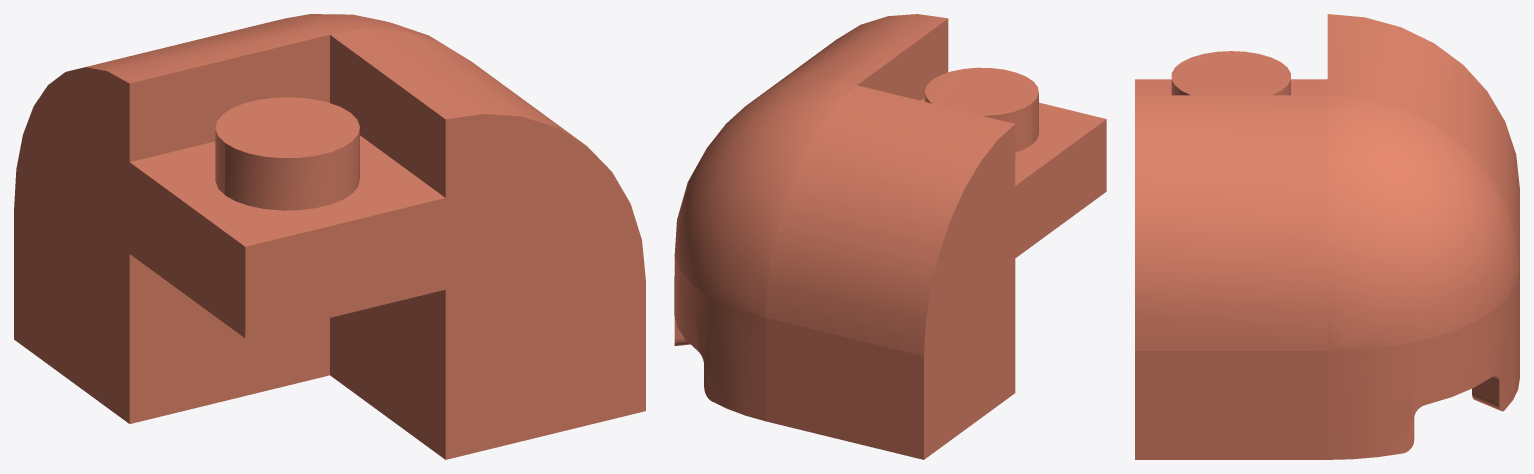
3 views of the same model, side by side, from view 1: azimuth 30°, elevation 25°; view 2: azimuth 150°, elevation 25°; view 3: azimuth 270°, elevation 25° (orthographic). The views are drawn at different scales.
Visible parts, largest first — view 1: [pivoted]; view 2: [pivoted]; view 3: [pivoted].
Part boxes in pixels (x1=…): [pivoted]: x1=14, y1=14, x2=645, y2=459; [pivoted]: x1=674, y1=14, x2=1106, y2=459; [pivoted]: x1=1135, y1=14, x2=1519, y2=459.
Size of the model in its own units: 1.6 by 1.3 by 1.6.
